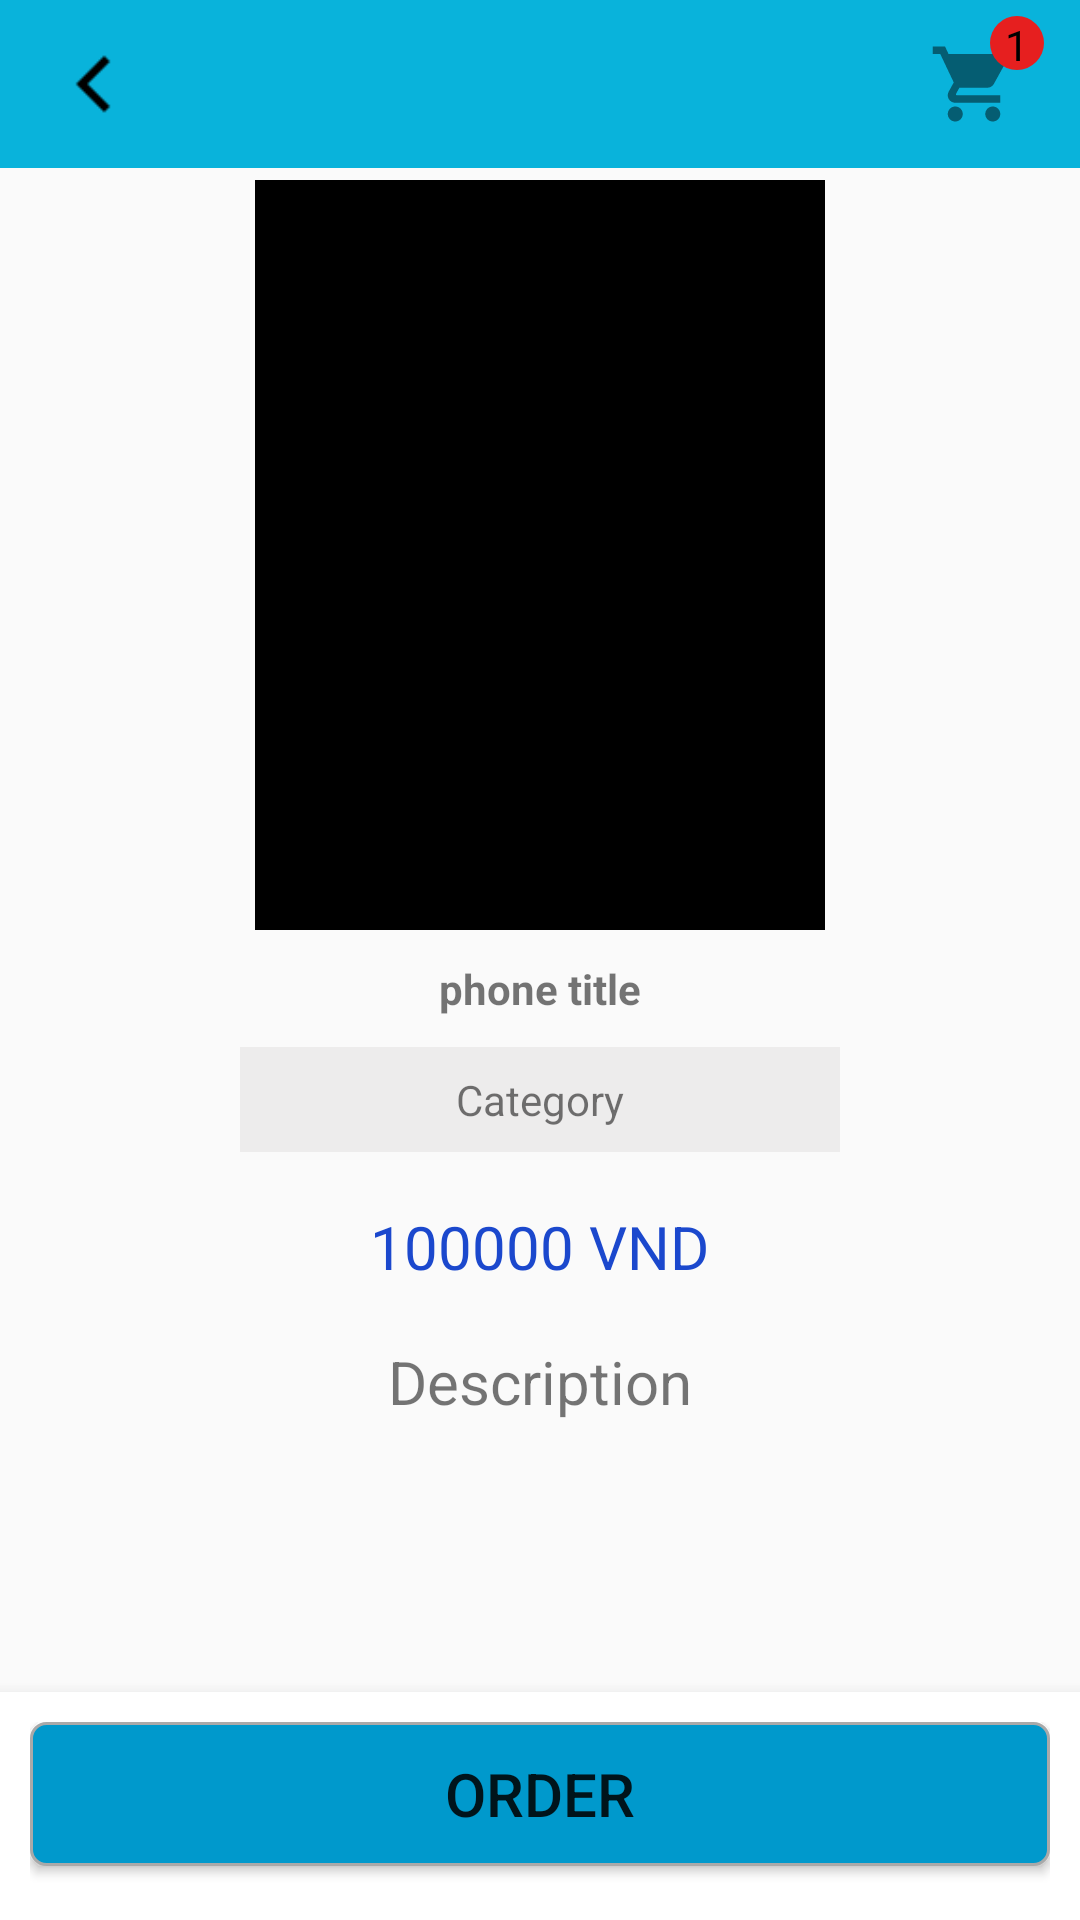

Icons on this 1080 × 1920 Android screen, each with the point to tap as (x=x, y=y):
back: (x=93, y=84)
store: (x=975, y=80)
